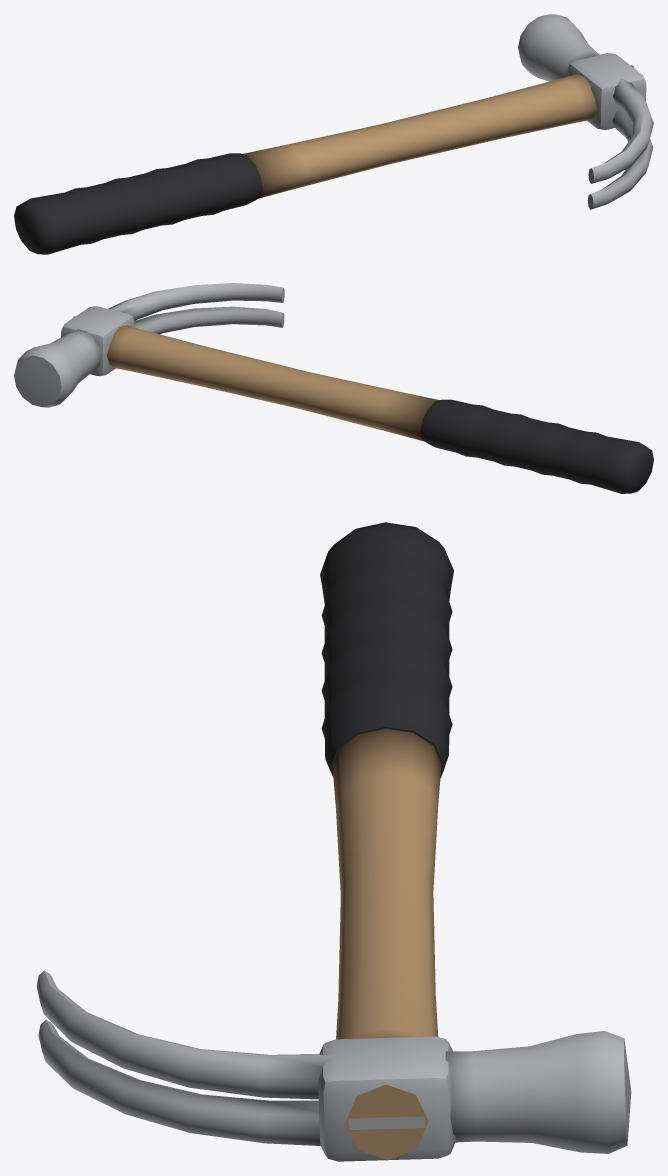
File: claw_hammer.glb
3 renders of one model, top to bottom at view 1: azimuth 30°, elevation 25°; view 2: azimuth 150°, elevation 25°; view 3: azimuth 270°, elevation 25°, orthographic. The views are drawn at different scales.
Visible parts, largest first — view 1: PART; view 2: PART; view 3: PART.
Boxes of the visible parts, bbox=[...] form: PART: bbox=[14, 14, 653, 254]; PART: bbox=[14, 283, 653, 493]; PART: bbox=[36, 522, 631, 1161].
Size of the model in its own units: 0.3313 by 0.0308 by 0.1489.
